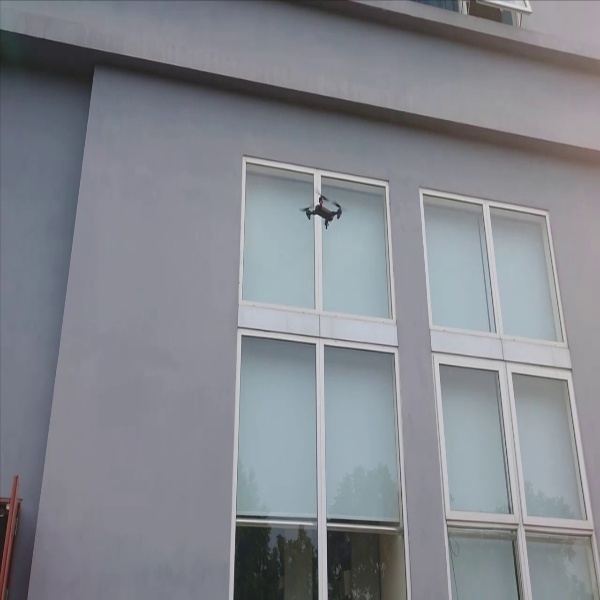drone: (298, 184, 347, 230)
